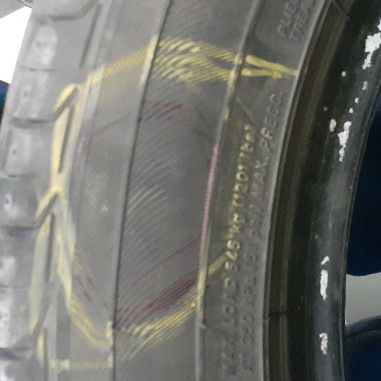CBU: (70, 106, 220, 303)
